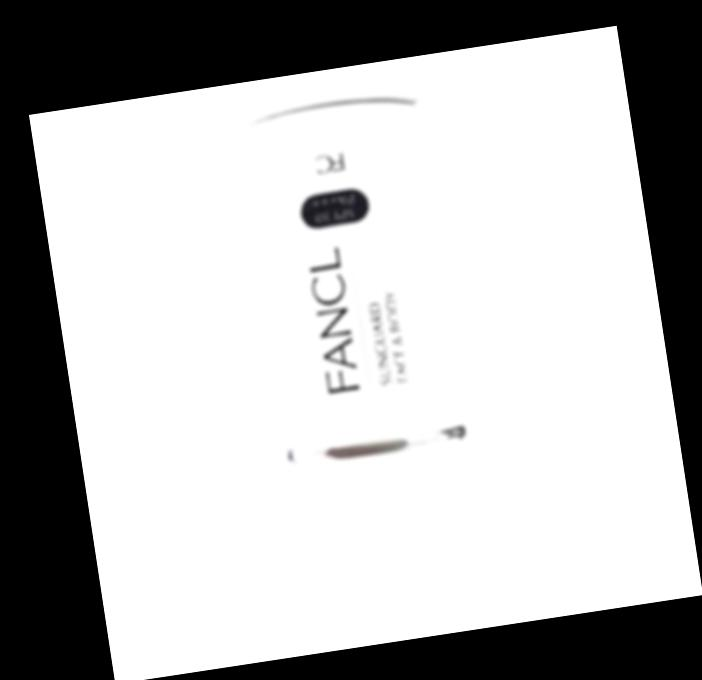cosmetic: (225, 89, 493, 578)
